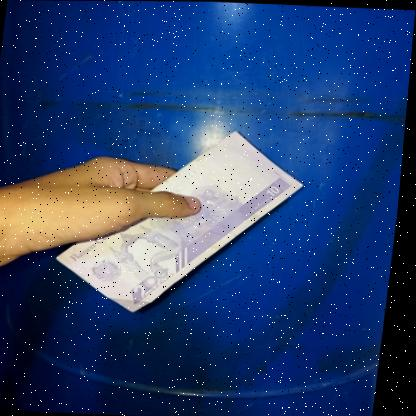ten-back-vef: (56, 123, 310, 317)
